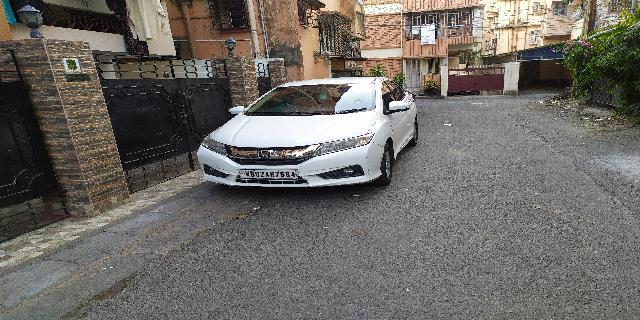Car: (193, 75, 422, 192)
